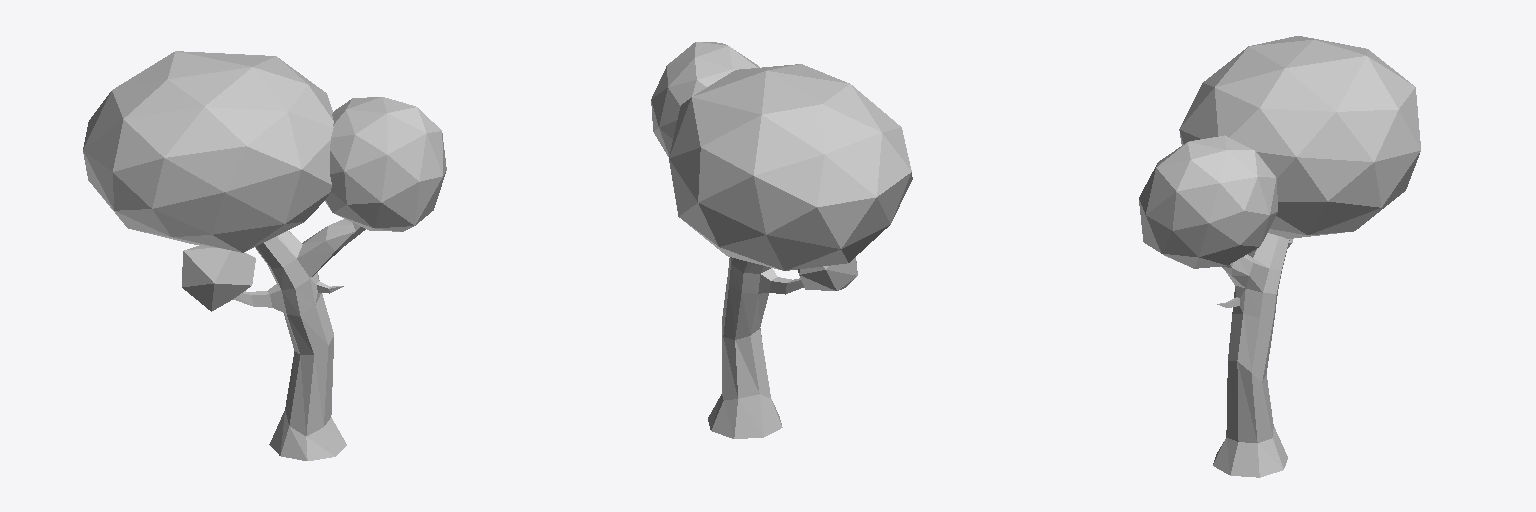
Rendered from tree_a.obj.
3 views of the same model, side by side, from view 1: azimuth 30°, elevation 25°; view 2: azimuth 150°, elevation 25°; view 3: azimuth 270°, elevation 25° (orthographic).
Visible parts, largest first — view 1: tree.001_Cylinder; view 2: tree.001_Cylinder; view 3: tree.001_Cylinder.
Boxes of the visible parts, x1=… form: tree.001_Cylinder: x1=83, y1=51, x2=446, y2=460; tree.001_Cylinder: x1=651, y1=42, x2=912, y2=438; tree.001_Cylinder: x1=1139, y1=36, x2=1420, y2=477.
Bounding box in the file's own units: 5.03 × 6.27 × 4.29.